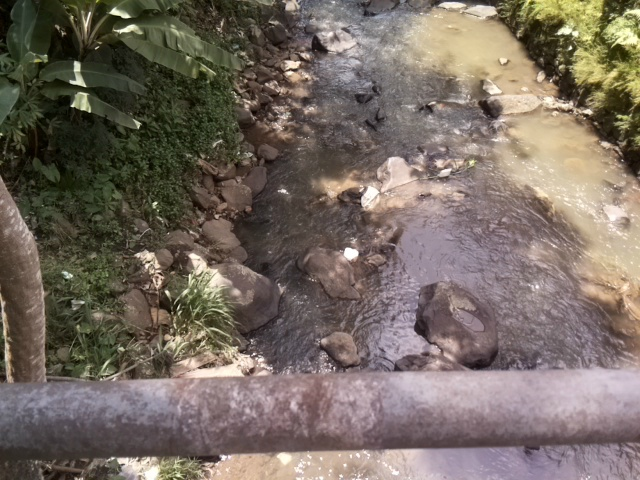Sampah_Plastik: (359, 183, 381, 211)
Sampah_Styrofoam: (341, 245, 362, 263)
